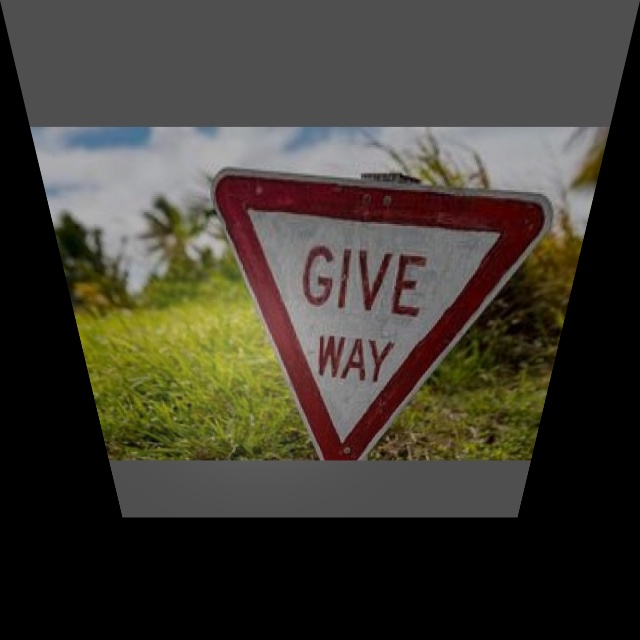Give_Way: (212, 175, 553, 449)
